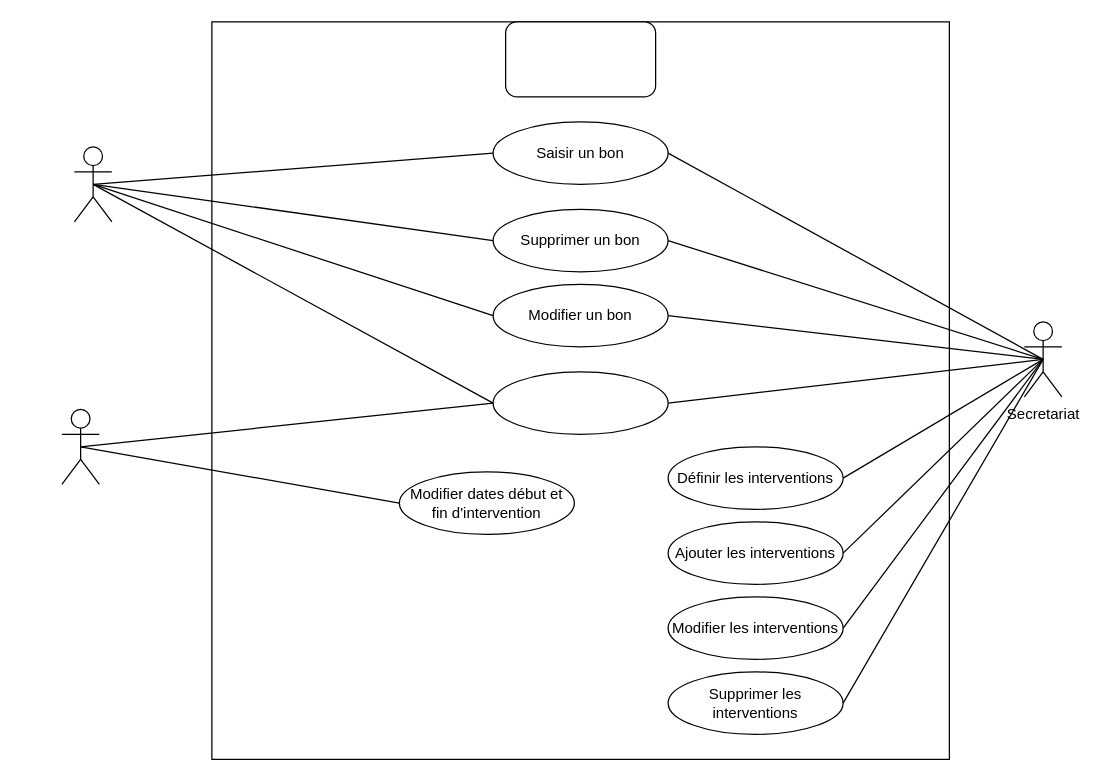
Some shapes in this 1101 by 781 pixel diagram are drawn without their labels. Here are the shapes that lost their labels. From the top down, the centre of each, then its label:
pixel 580 59: Gestion de bon de travaux
pixel 92 184: Demandeur
pixel 580 402: Consulter un bon
pixel 80 446: Agent d'entretient
